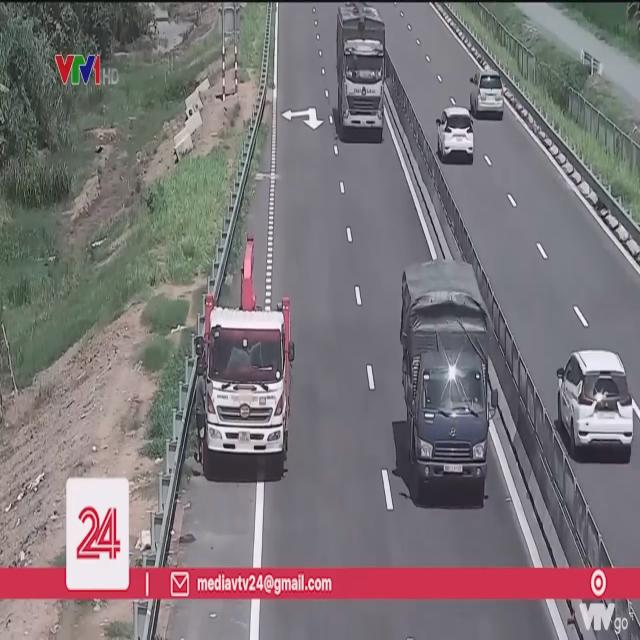car: (556, 350, 638, 462), (436, 105, 475, 164), (471, 70, 506, 118)
truck: (395, 266, 494, 509), (205, 292, 291, 478), (340, 14, 390, 144)
